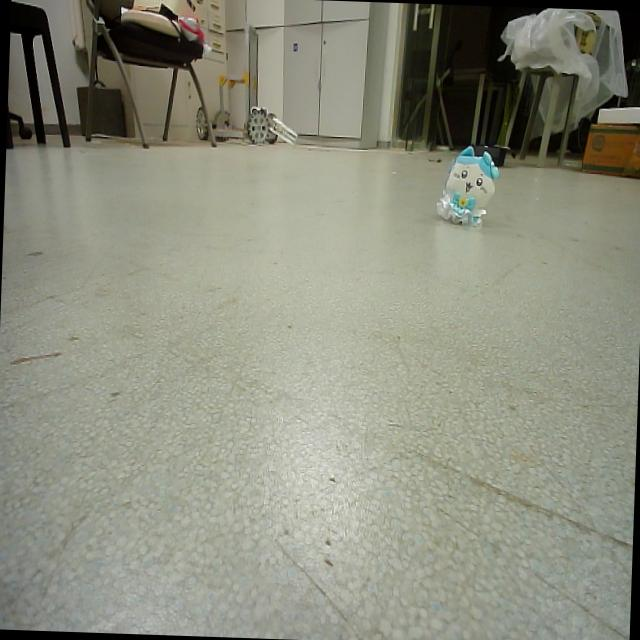xiaoba: (435, 142, 499, 228)
